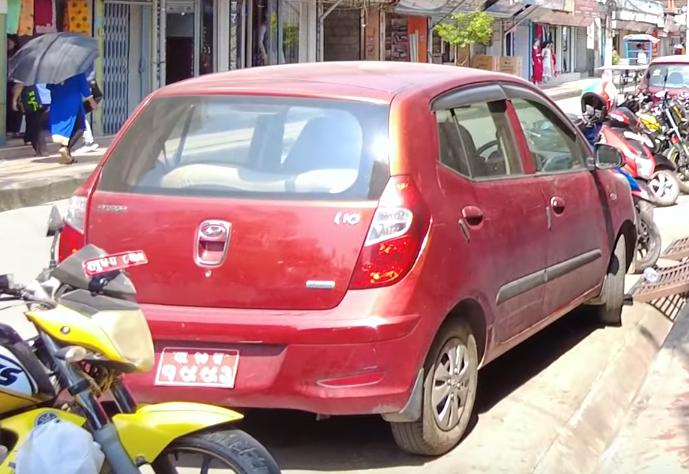bike: (0, 206, 279, 474)
car: (46, 51, 635, 450)
